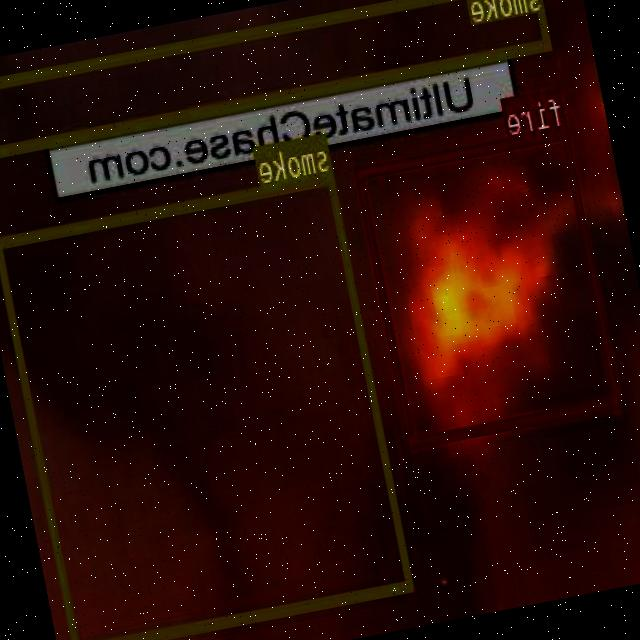fire: (356, 124, 622, 447)
smoke: (0, 171, 415, 640), (0, 0, 553, 156)
